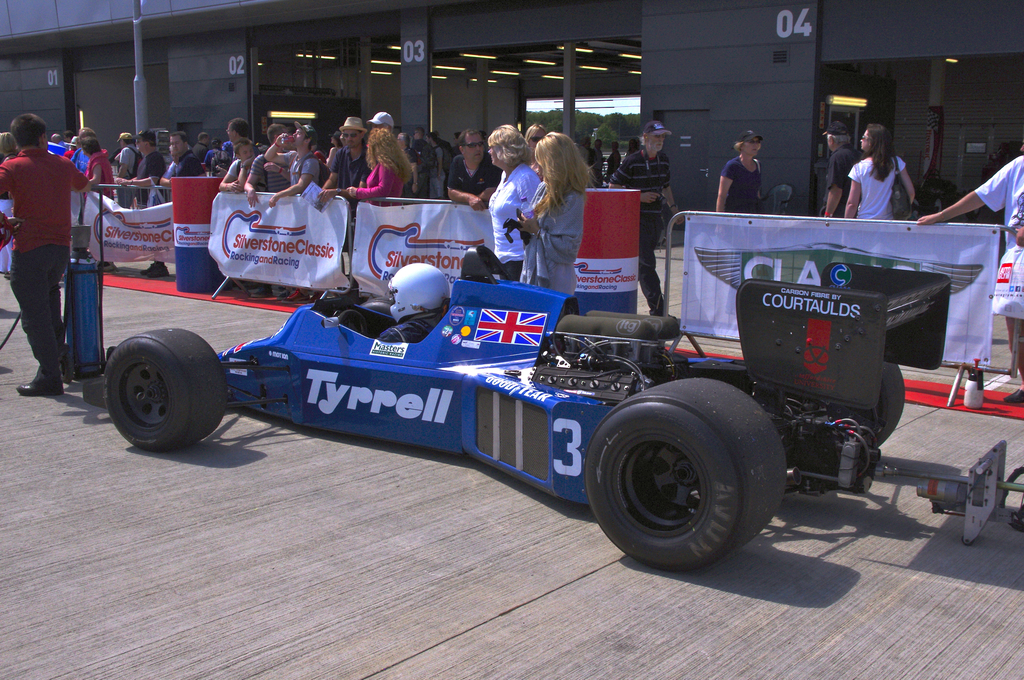Car: (102, 245, 952, 573)
